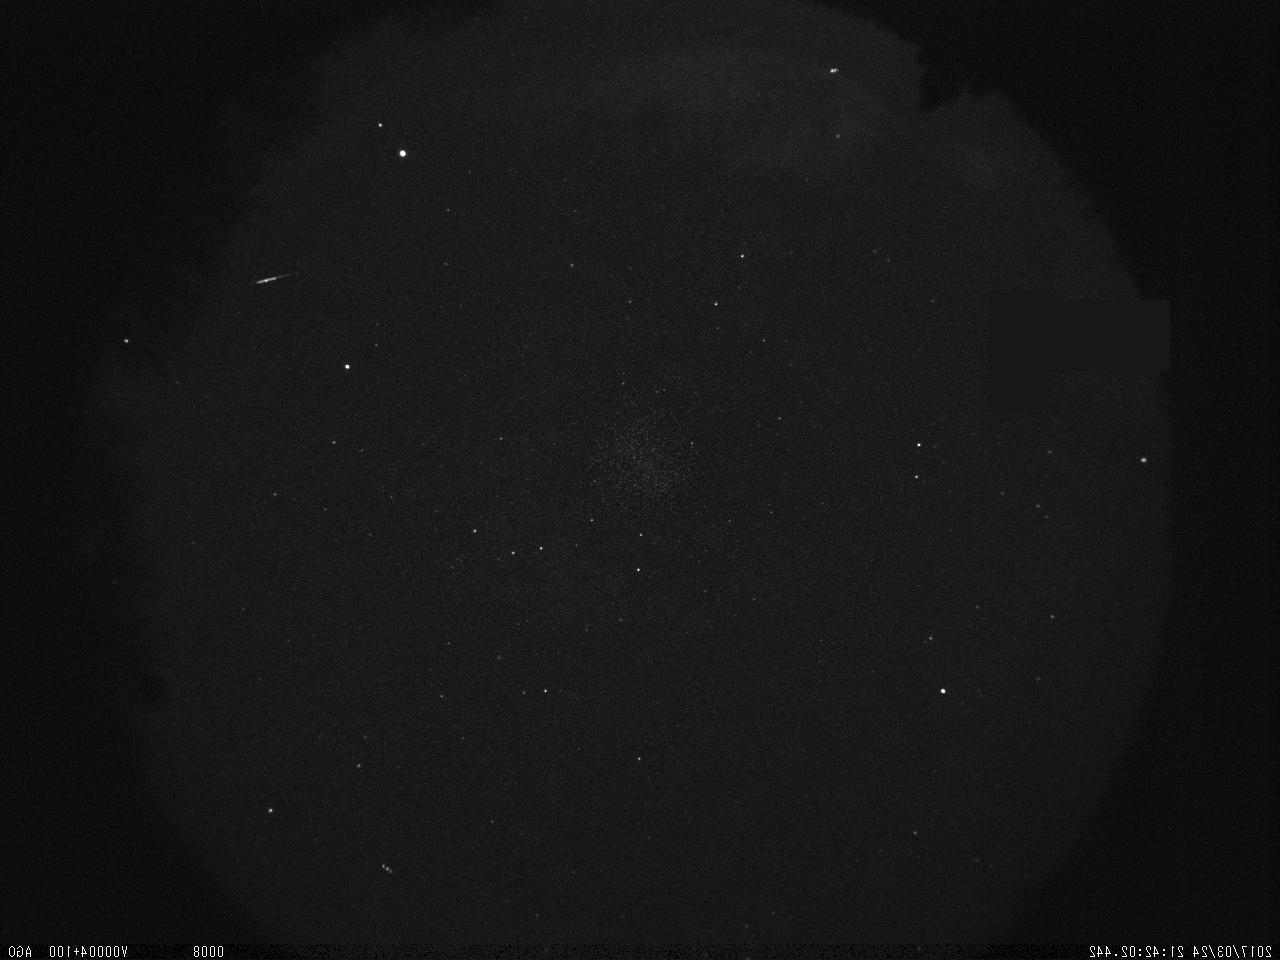meteor: (242, 261, 295, 308)
